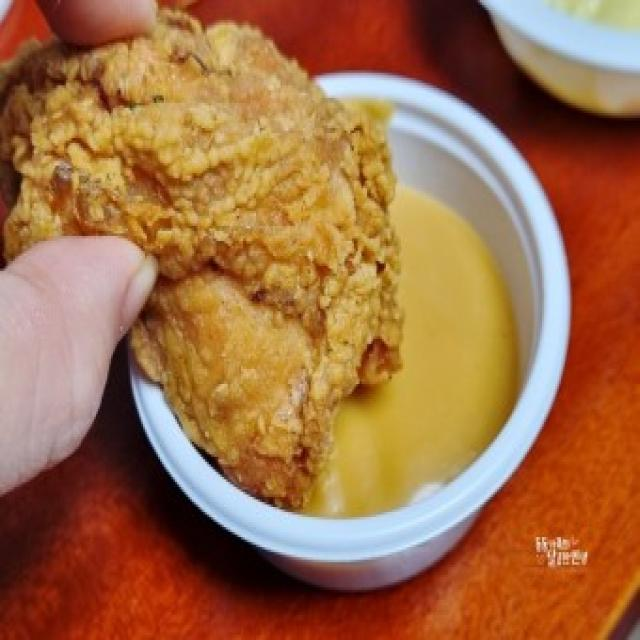Frango: (5, 32, 413, 504)
